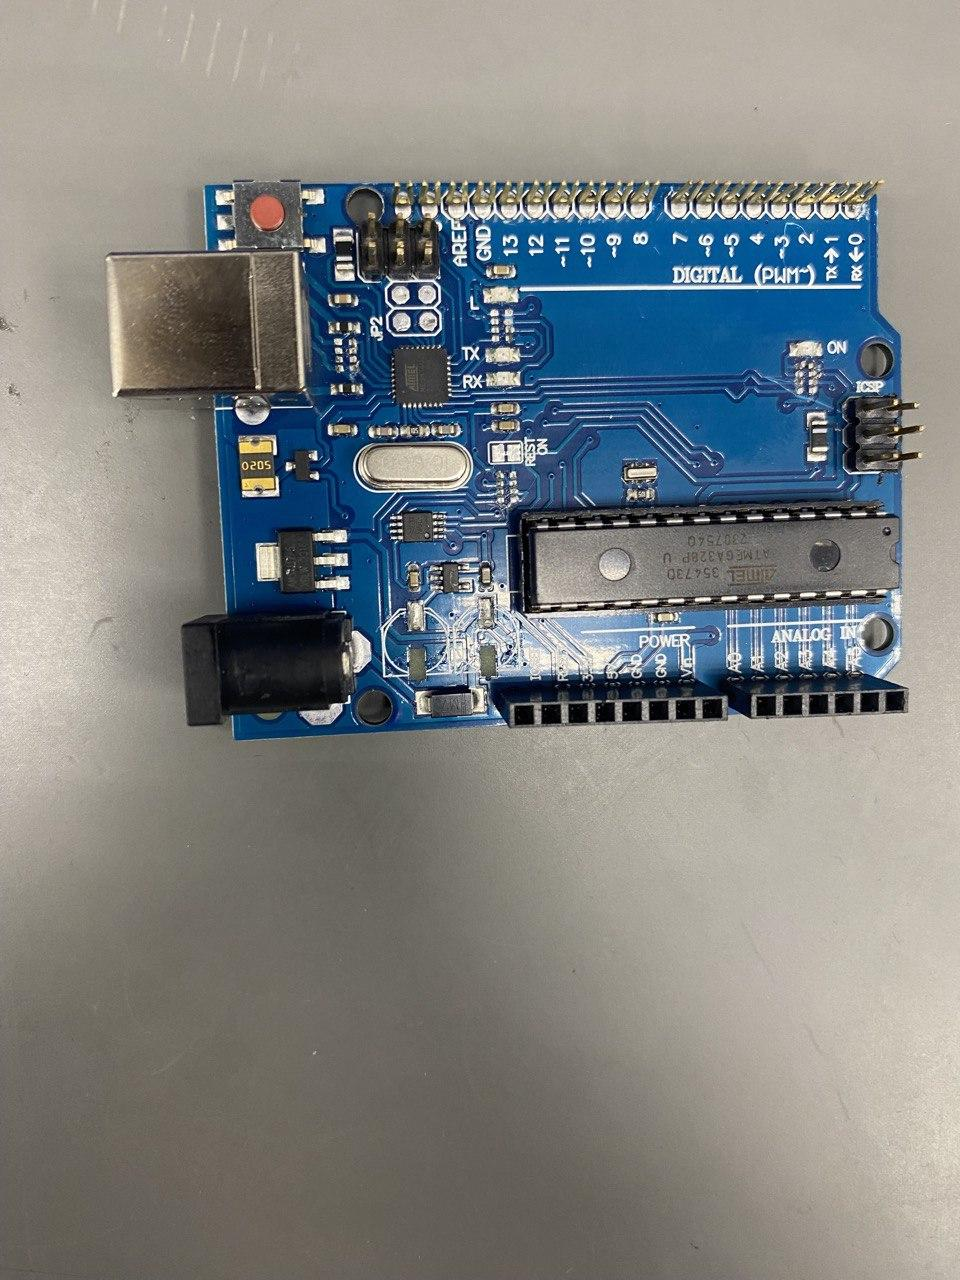ATmega328 chip: (523, 498, 902, 614)
Arduino board: (105, 177, 925, 741)
USB: (101, 249, 312, 402)
pins: (490, 674, 729, 728), (727, 673, 909, 719)
